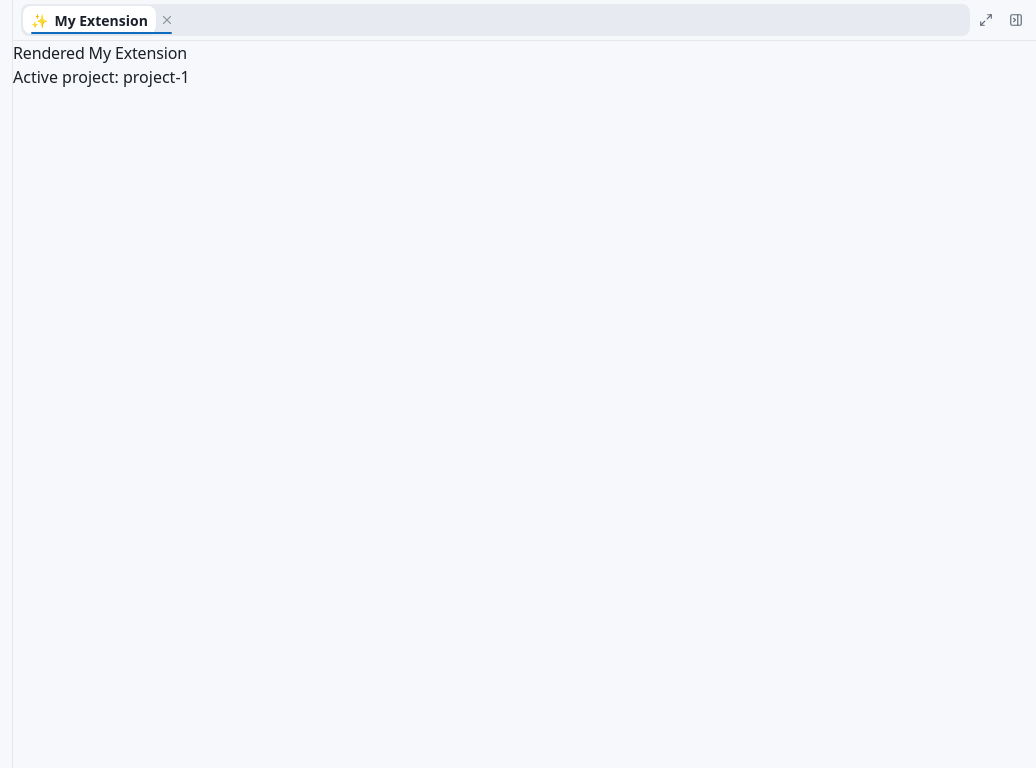
Test case: P6: Canonical Dock Envelope & Capability Neutrality › H. Test-Only Third Dock View Proof (Zero WorkspaceDock Edits) › injects and renders custom third-party contribution through WorkspaceDock registry prop
Expected: the tab "✨ My Extension" is shown, [23,6,156,34]
Expected: the text "✨" is shown, [31,10,48,30]
Closing the tab closes it and removes the rendered view
Click the button named "关闭 My Extension" at (167, 20), box [157,10,177,30]
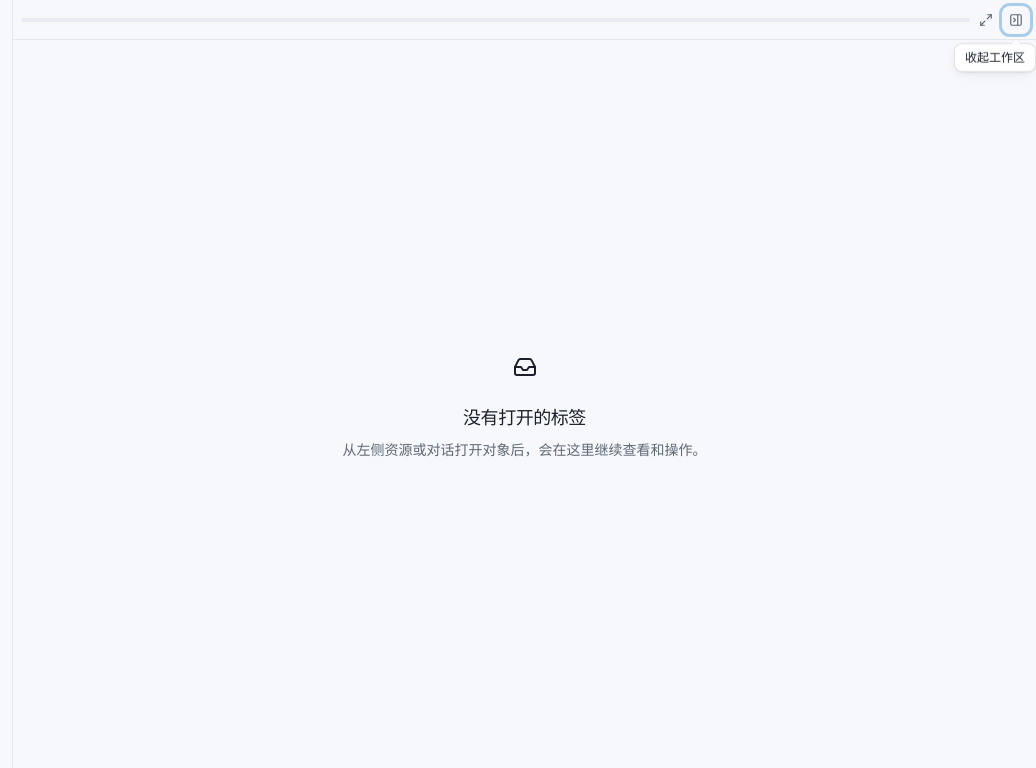
Expected: the element with test id "custom-rendered-view" is gone
Expected: the heading "没有打开的标签" is shown, [463,403,586,431]
